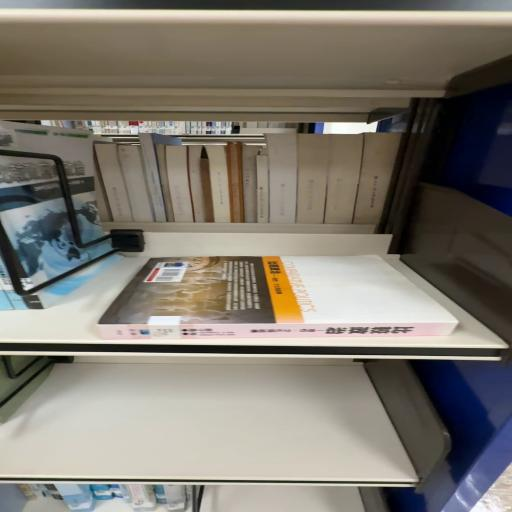flat: (98, 256, 459, 342)
